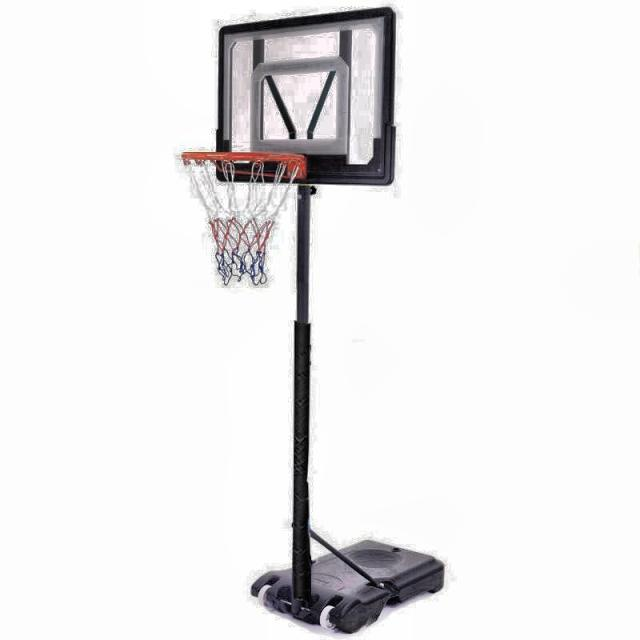rim: (182, 148, 305, 283)
